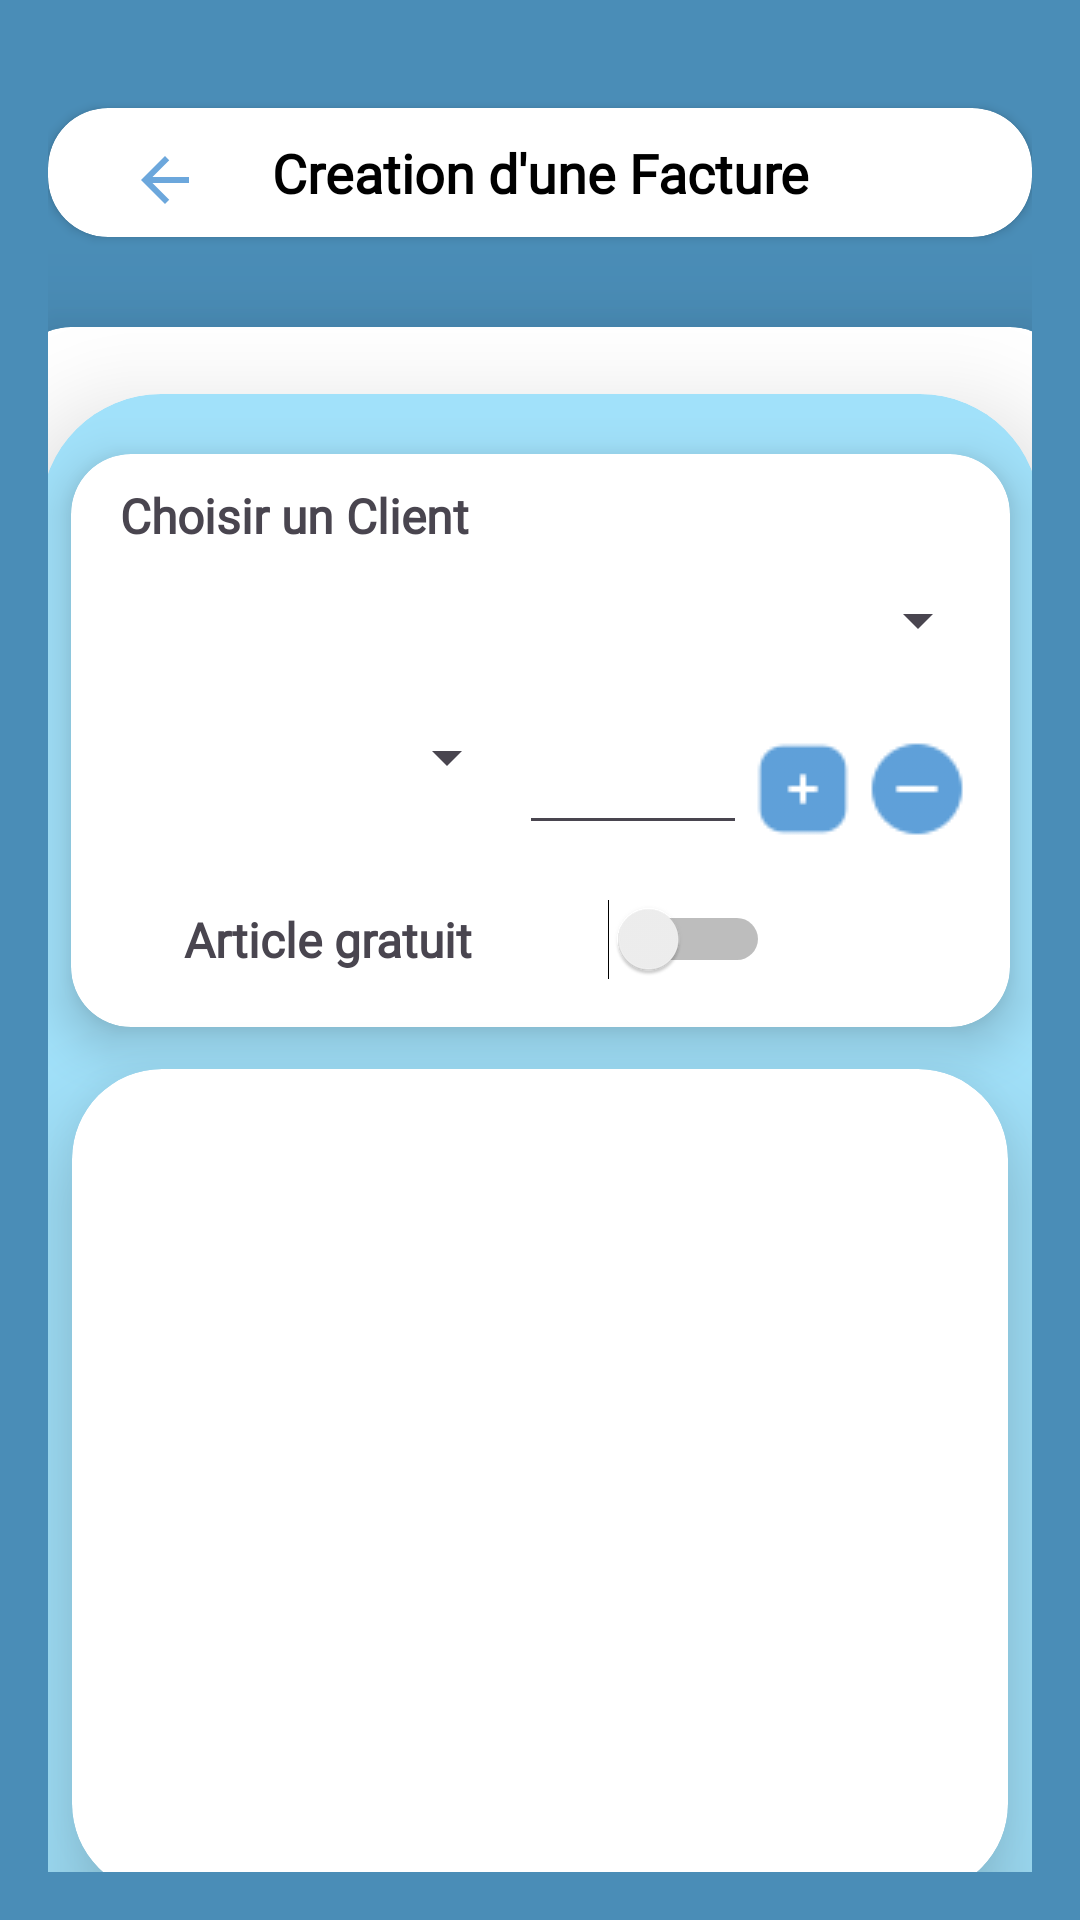

Locate icon controls on the screen. Image size 1080 x 1920, boxes as {"x1": x1, "y1": y1, "x2": x2, "y2": y2}.
addv: {"x1": 758, "y1": 744, "x2": 848, "y2": 834}
soustractionv: {"x1": 871, "y1": 743, "x2": 963, "y2": 835}
